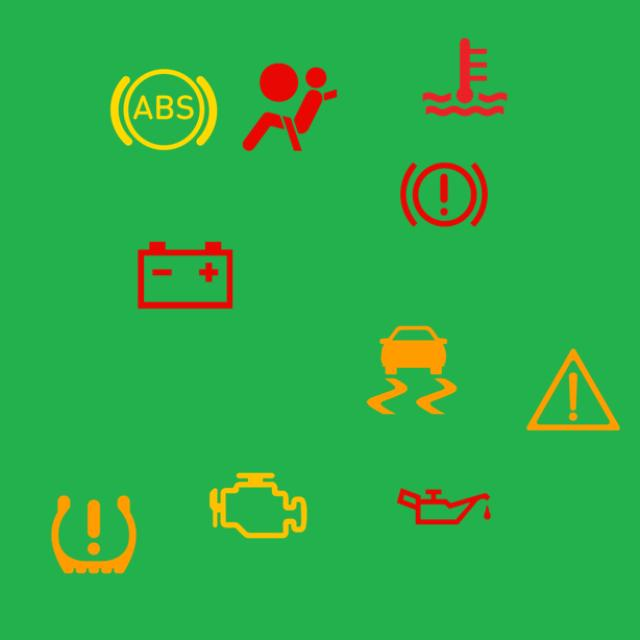Anti Lock Braking System: (105, 51, 222, 168)
Braking System Issue: (386, 137, 502, 253)
Charging System Issue: (127, 217, 244, 333)
Check Engine: (200, 447, 317, 564)
Electronic Stability Problem -ESP-: (353, 312, 470, 428)
Engine Overheating Warning Light: (407, 19, 523, 135)
Low Engine Oil Warning Light: (386, 448, 502, 565)
Low Tire Pressure Warning Light: (36, 476, 152, 593)
Master warning light: (515, 332, 632, 448)
SRS-Airbag: (232, 49, 348, 166)
